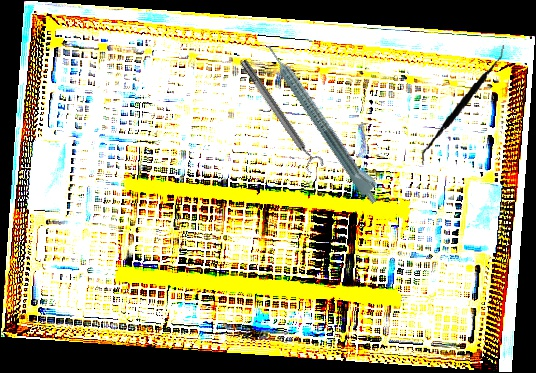Fixation Ring: (235, 55, 326, 175)
Handpiece: (262, 37, 387, 207)
Spatula Surgical: (421, 38, 506, 172)
